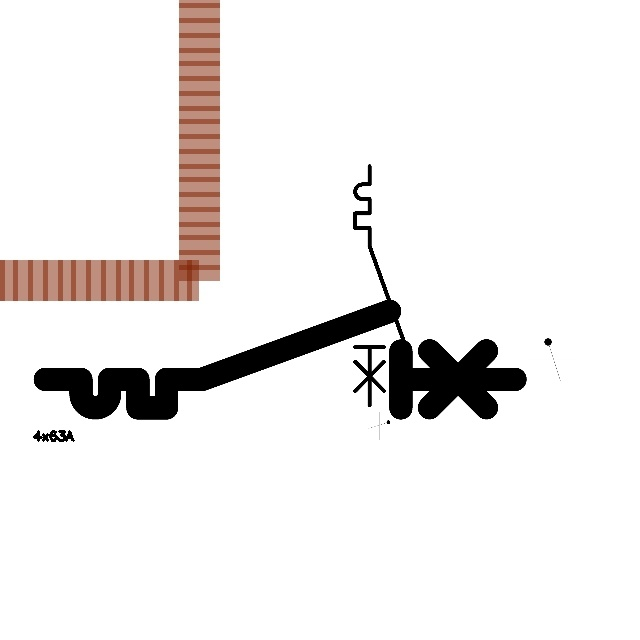interruptor_termomagnetico: (33, 299, 527, 420), (349, 160, 410, 411)
